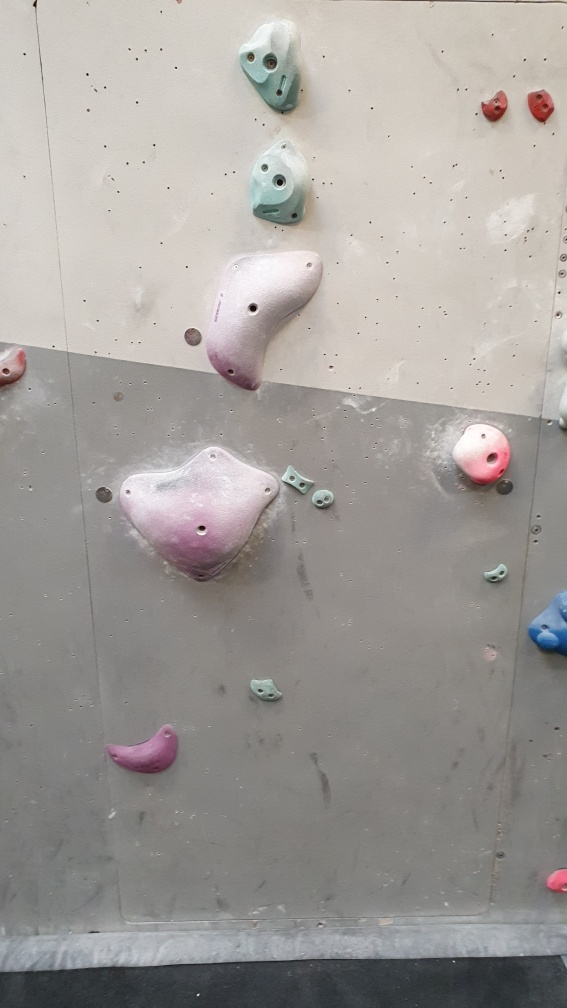Hand Start: (180, 323, 204, 347), (91, 481, 114, 506)
Jug: (233, 18, 316, 120), (245, 134, 313, 226)
Pinch: (522, 80, 554, 130), (281, 466, 314, 492), (479, 560, 515, 582), (496, 472, 515, 500)
Sloper: (524, 575, 567, 649)
